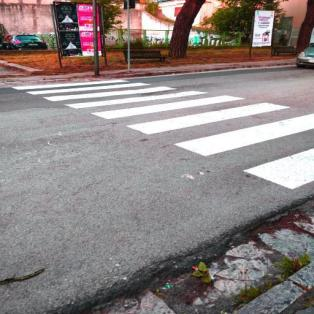Paso de Cebra: (124, 100, 314, 161)
